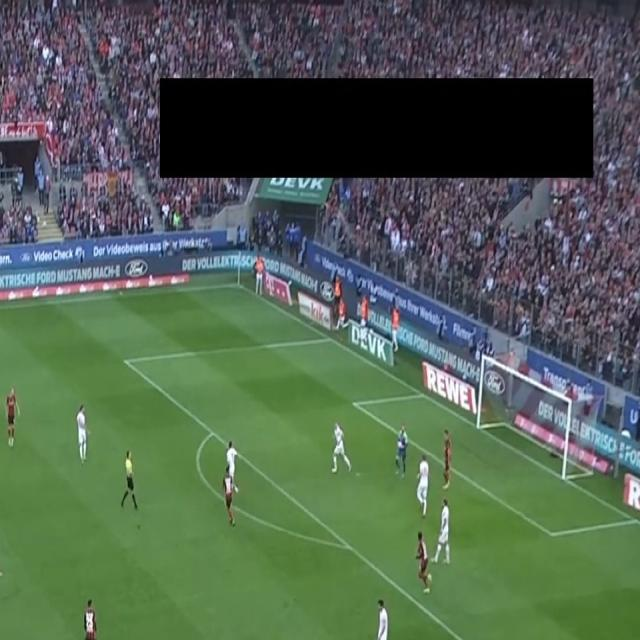ball: (398, 440, 402, 448)
